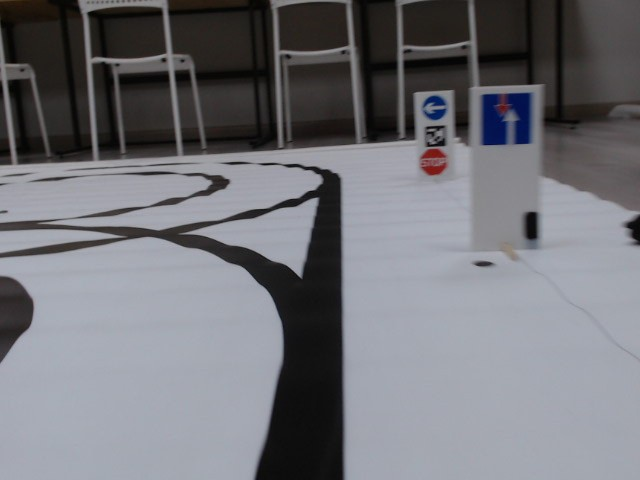Stop: (420, 147, 447, 176)
priority_movement: (479, 92, 536, 148)
